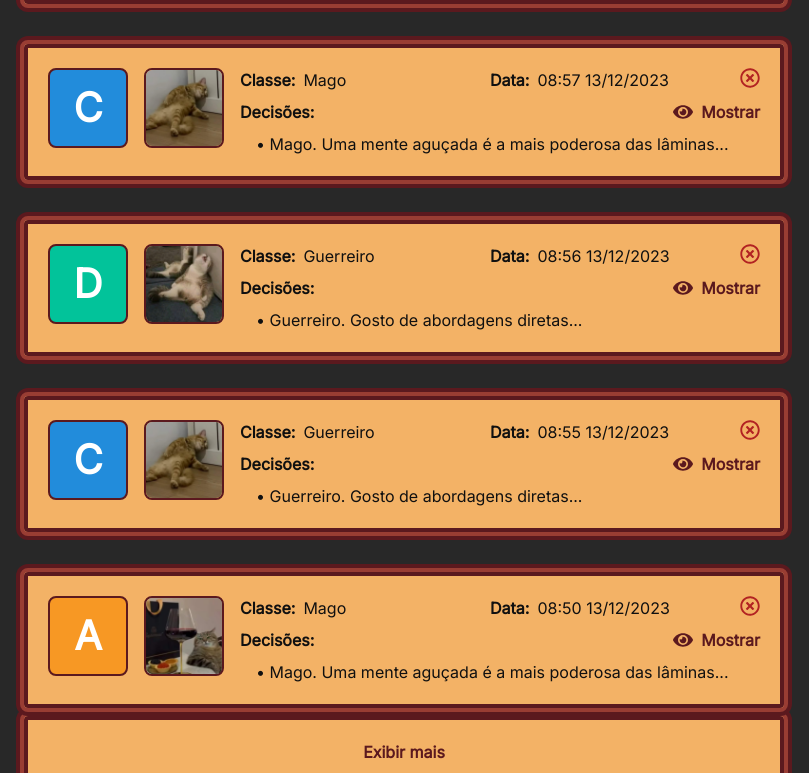
it: MyScores Page › when click to get more score cards › and when listMyScoresApi re request succeeds › and when have scores › and when the total of new score cards is less than 10 › should not render a get more link
(page scrolled)
Click the link "Exibir mais": [404, 752] box [363,742,445,762]
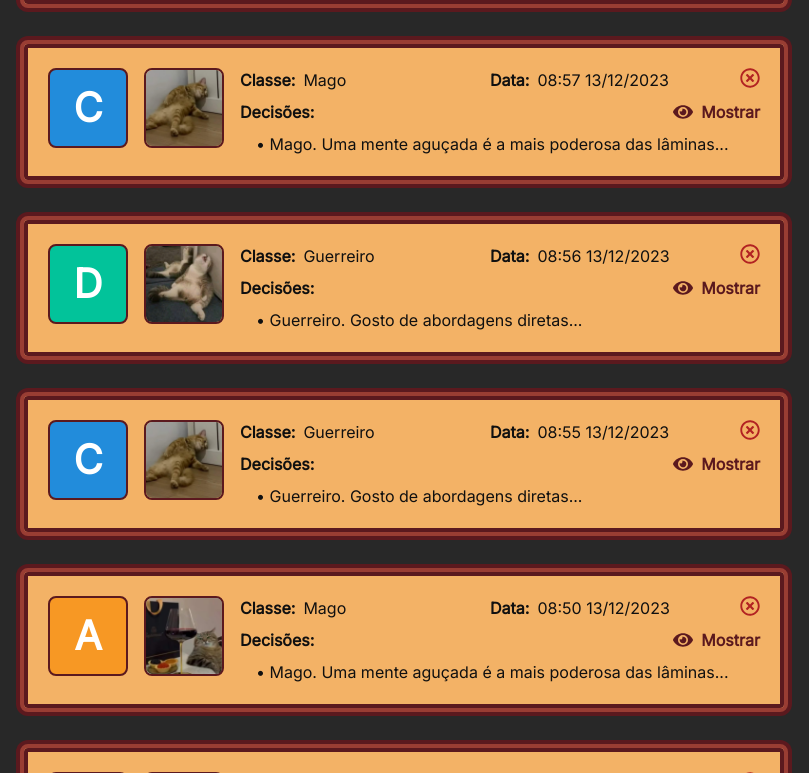
Expected: the link "Exibir mais" is gone
